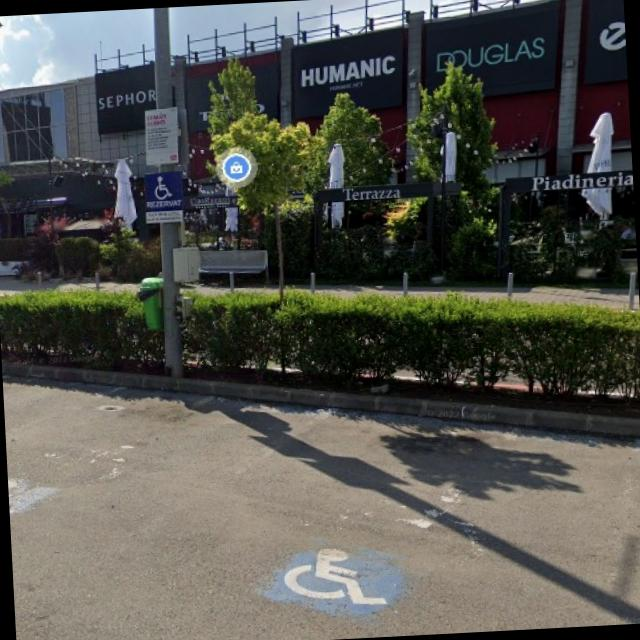symbol_of_access: (145, 171, 183, 203)
